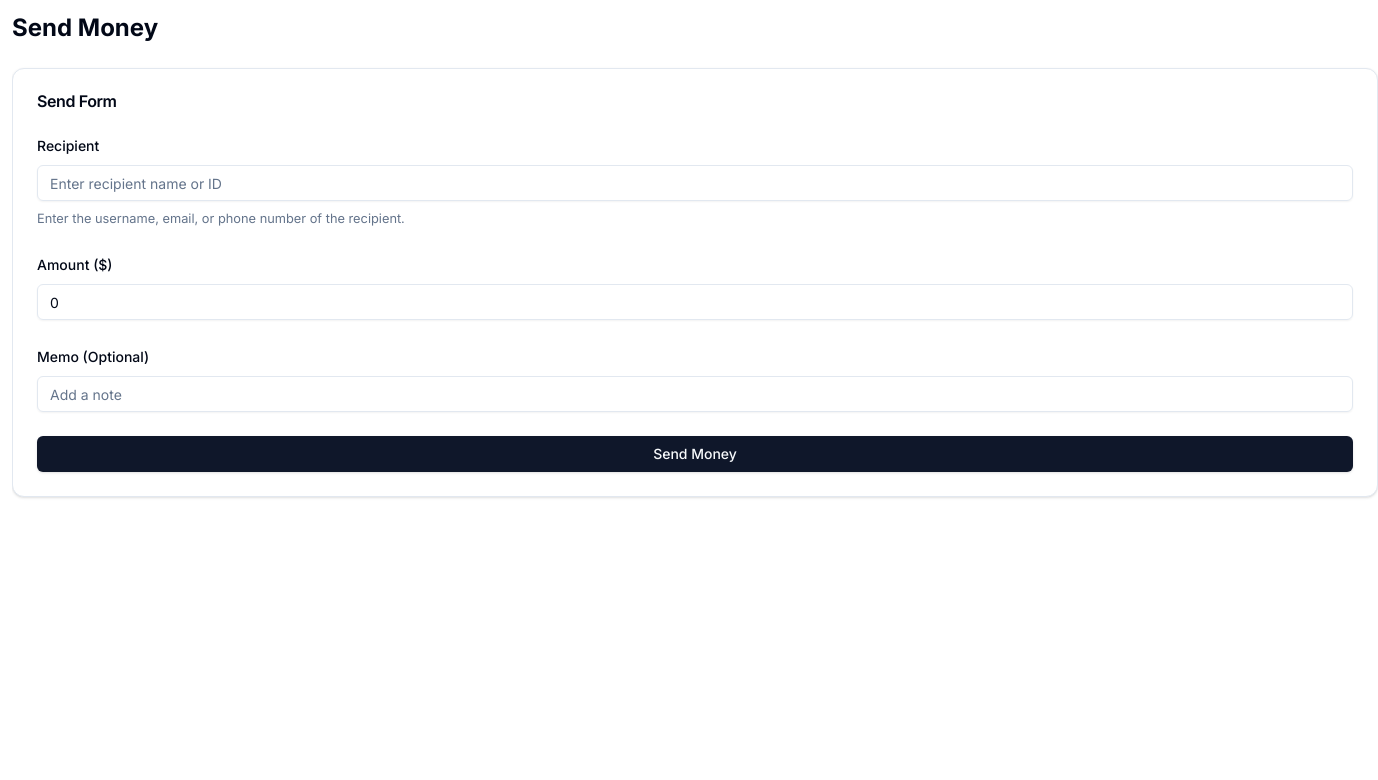
Scenario: SendPage Component › shows validation error for empty recipient
The width and height of the screenshot is (1378, 780).
Click the button "Send Money" at {"x": 695, "y": 454}, box [37,436,1353,472]
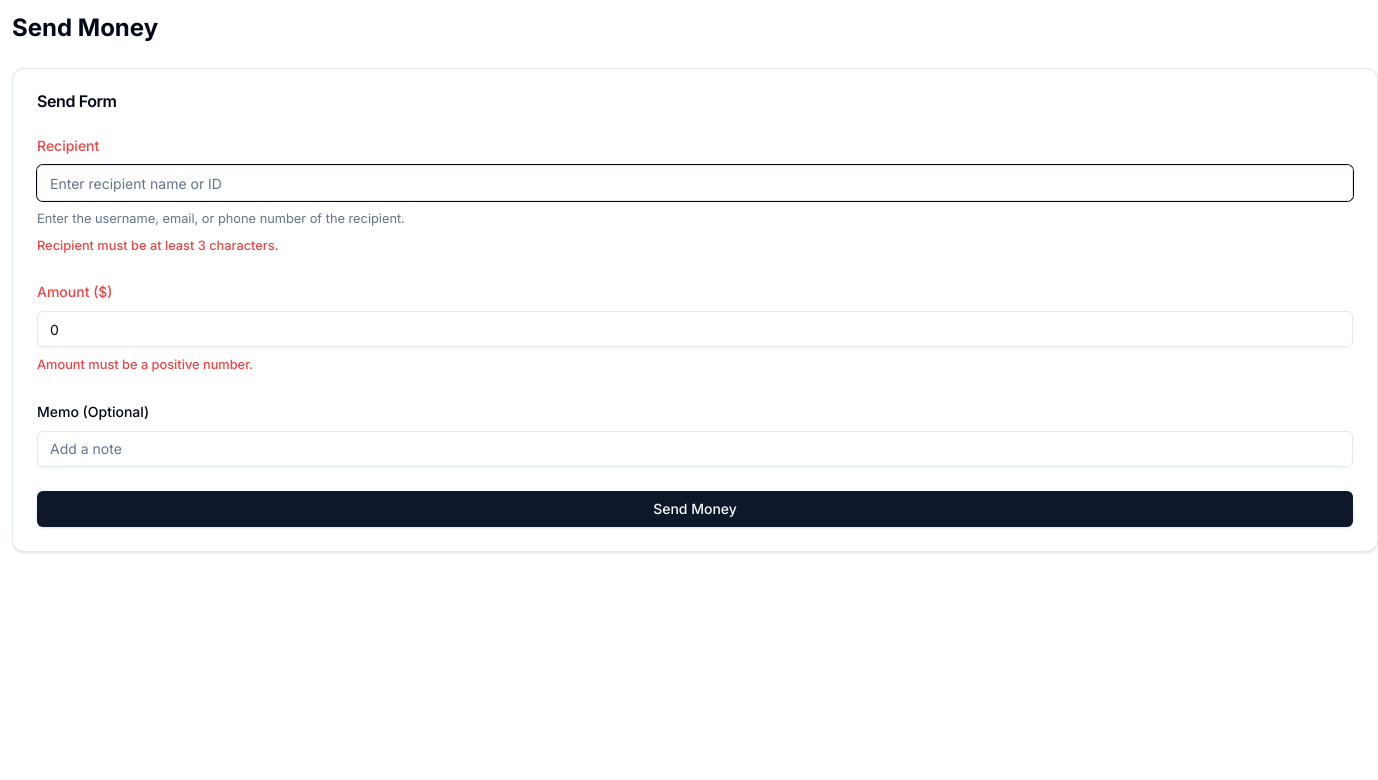
Check: the text "Recipient must be at least 3 characters." is shown, box [37,238,278,253]
